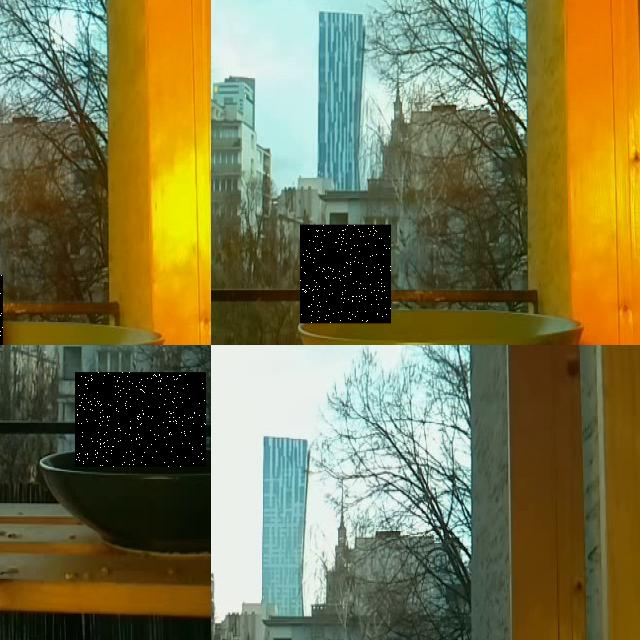Modraszka: (300, 225, 391, 323)
Wrobel: (75, 372, 206, 467)
